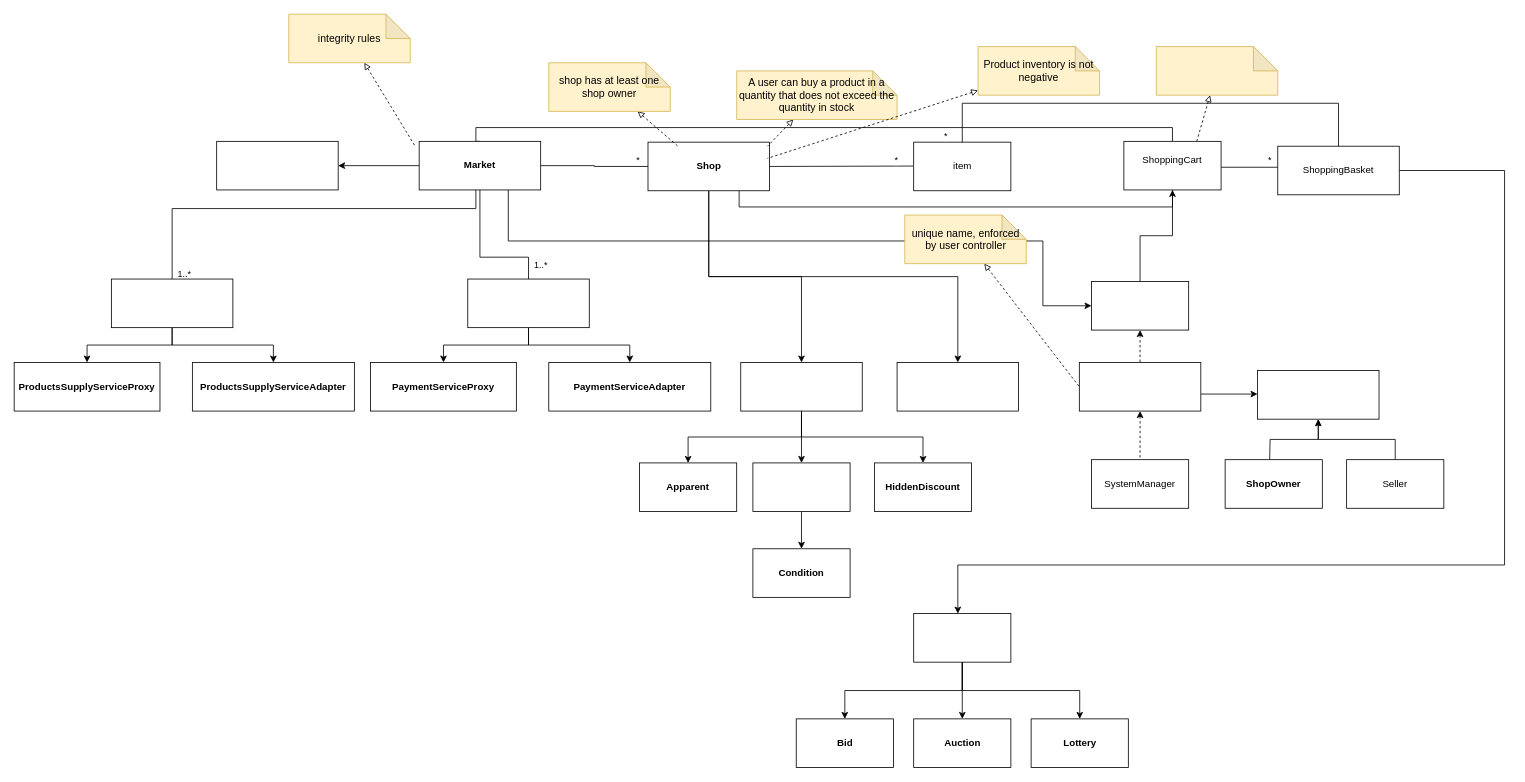
Some shapes in this 1525 by 782 pixel diagram are drawn without their labels. The box of each missing label's shape, as (x1, y1, x2, y2) in pixels:
buyer has at most one shopping basket per shop: (1155, 46, 1278, 95)
Conditional: (752, 462, 850, 512)
DiscountPolicy: (896, 362, 1019, 411)
Guest: (1091, 281, 1189, 330)
Member: (1079, 362, 1201, 411)
MemberState: (1257, 370, 1379, 419)
PaymentService <interface>: (467, 278, 589, 328)
ProductsSupplyService <interface>: (111, 278, 233, 328)
Purchase: (913, 613, 1011, 662)
PurchasePolicy: (740, 362, 862, 411)
Security: (216, 141, 338, 190)
